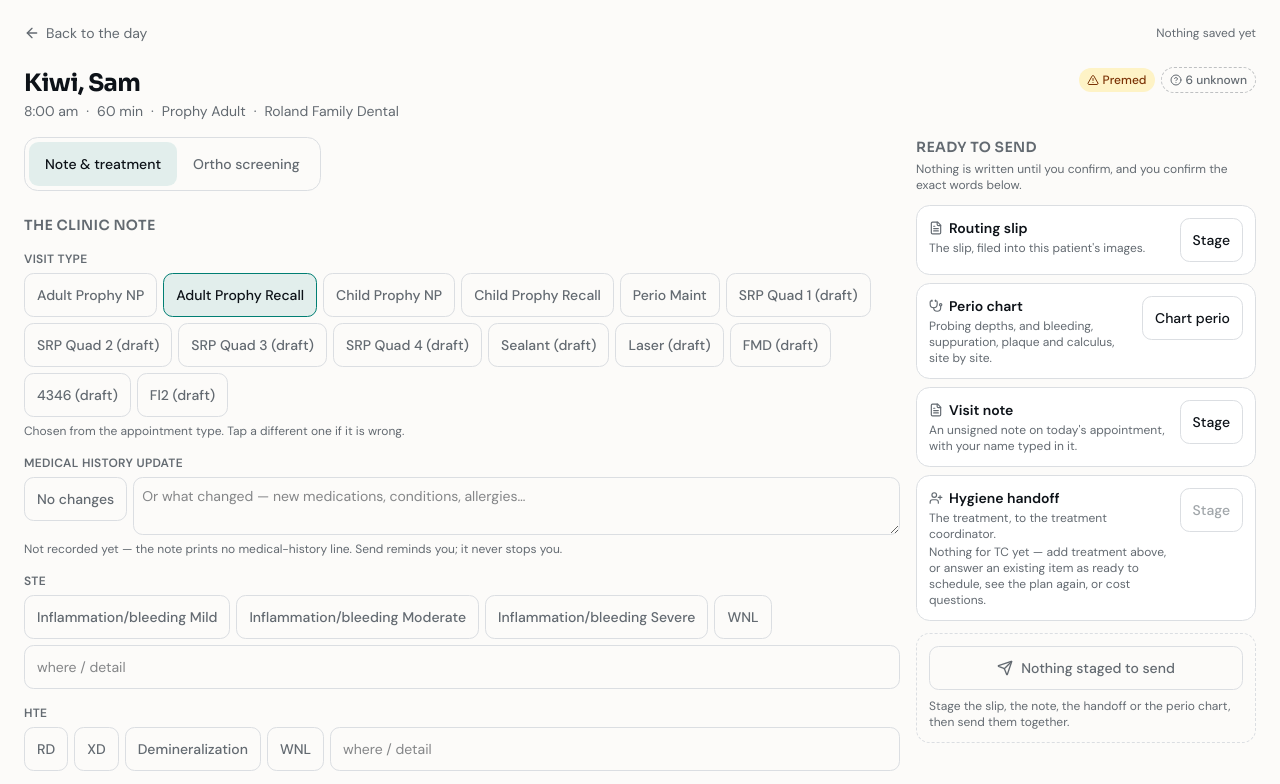
Scenario: the server owns the visit › shows a refusal to stage beside the thing that was refused
Click the button with test id "hyg-stage-router": (1211, 240) [1180,218,1243,262]
(page scrolled)
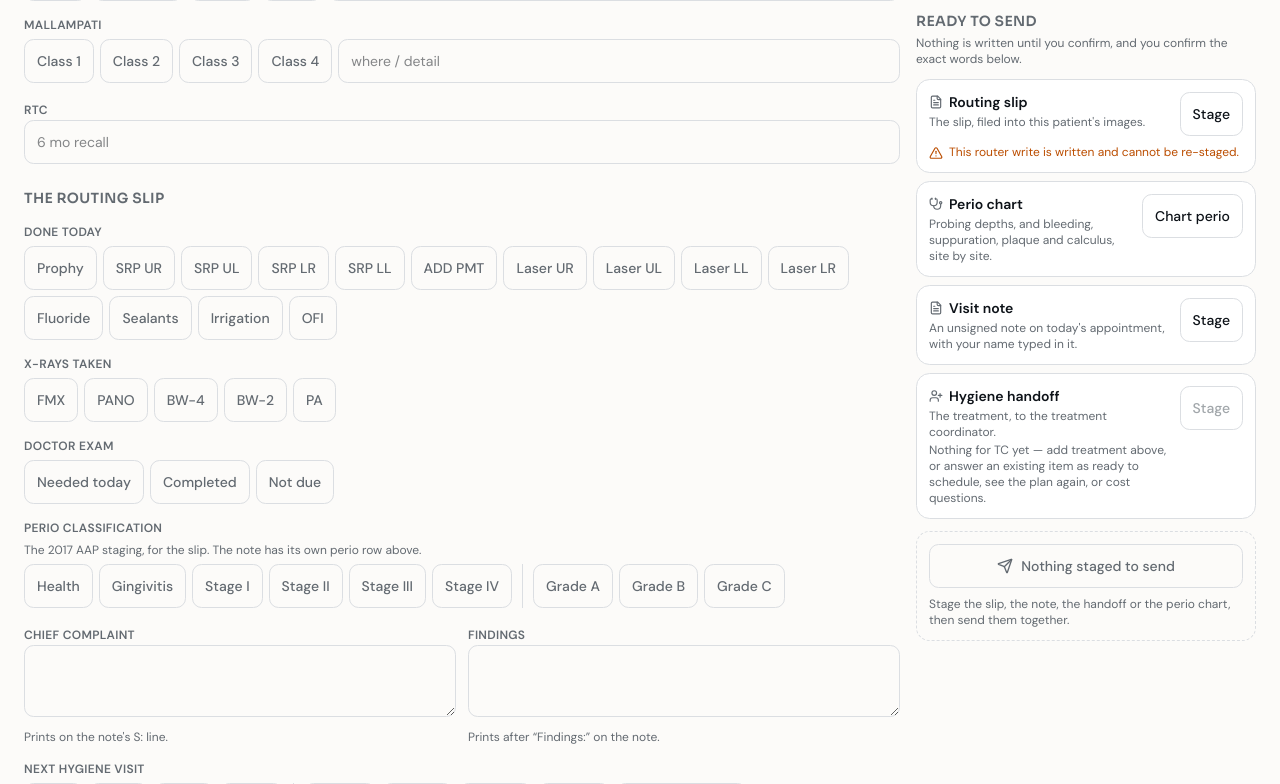
Expected: the element with test id "hyg-stage-refused-router" shows "cannot be re-staged", [949,144,1239,160]
